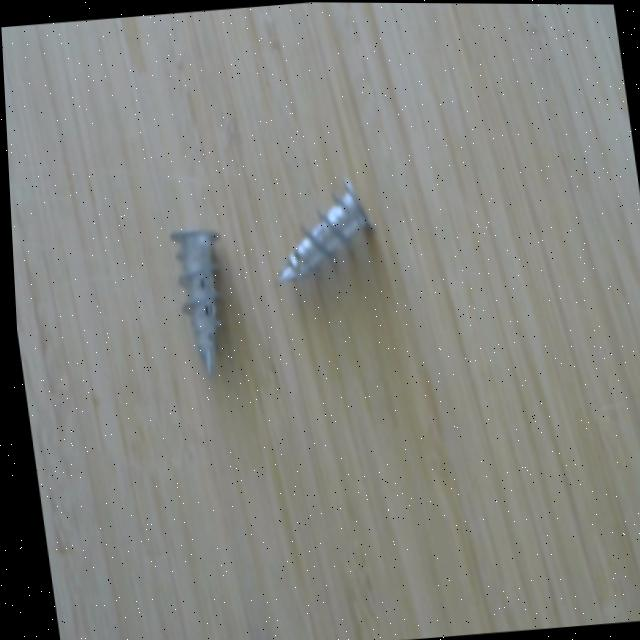Short screw: (258, 169, 392, 294), (157, 210, 242, 384)
